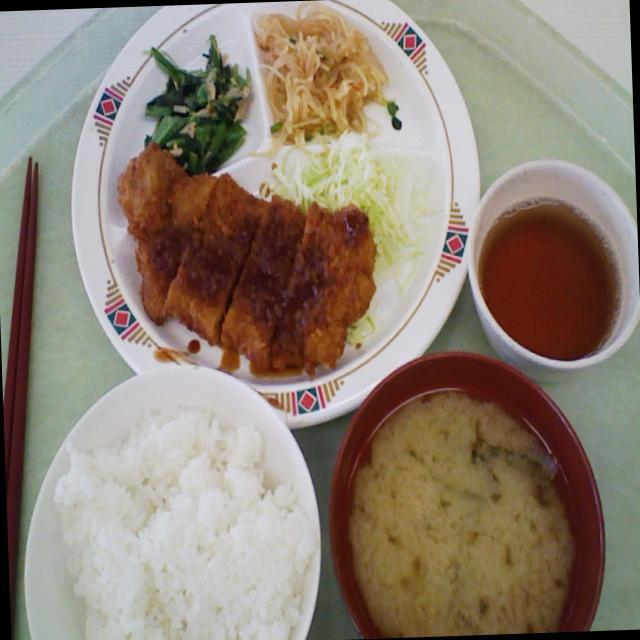Rice: (50, 381, 303, 640)
